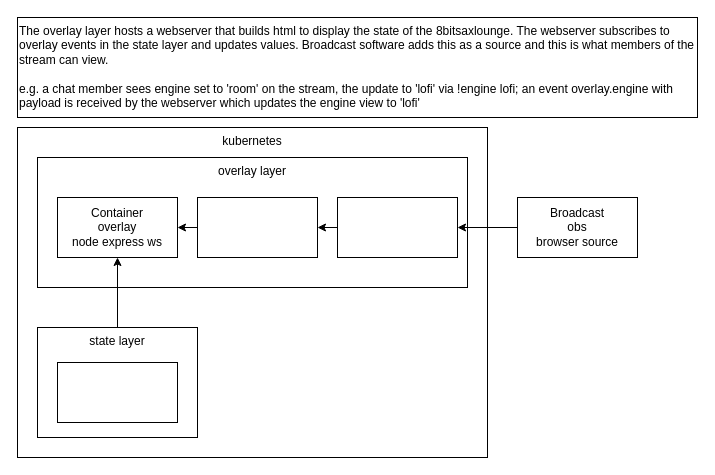
This 715x475 diagram has some shape labels left out. The shapes that lost their labels are listed below. From the top down, each one's centre as x and y in pixels, then its label:
(x=257, y=227): Service ClusterIp 80 > 3000
(x=397, y=227): Ingress nginx <overlay endpoint>/
(x=117, y=392): emit overlay.* event
